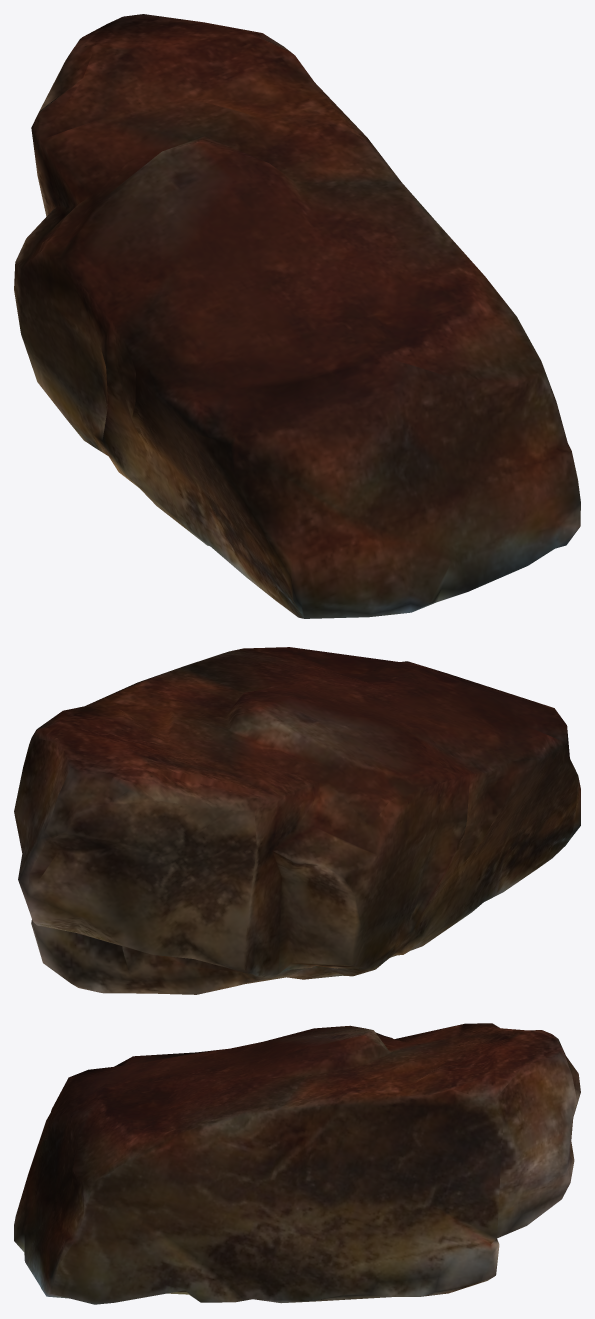
Rendered from rock_07.glb.
3 renders of one model, top to bottom at view 1: azimuth 30°, elevation 25°; view 2: azimuth 150°, elevation 25°; view 3: azimuth 270°, elevation 25°, orthographic. The views are drawn at different scales.
Visible parts, largest first — view 1: rock_07; view 2: rock_07; view 3: rock_07.
Part boxes in pixels (x1=…): rock_07: x1=14, y1=14, x2=580, y2=618; rock_07: x1=14, y1=647, x2=580, y2=994; rock_07: x1=14, y1=1023, x2=580, y2=1304.
Bounding box in the file's own units: 0.1672 × 0.1399 × 0.3194.
Materials: 1 (1 with a texture image).
